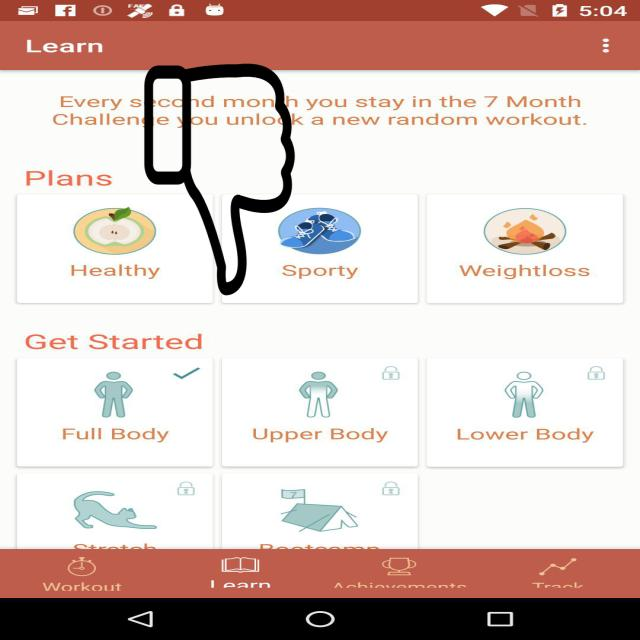obstruction: (142, 64, 297, 295)
